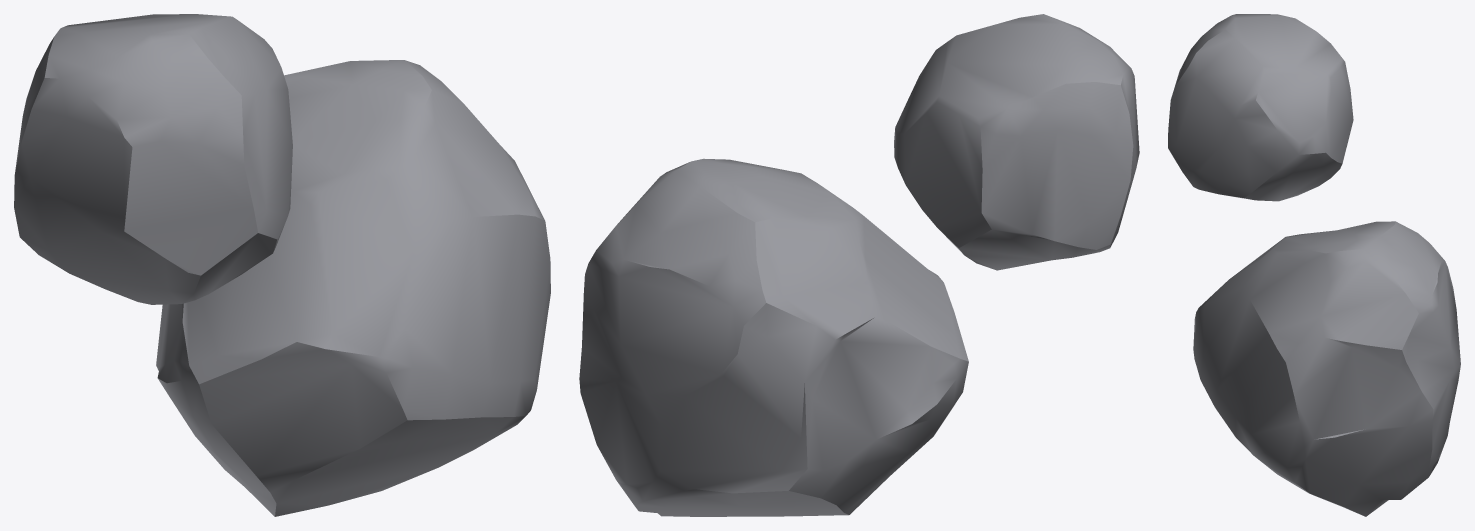
File: ui-rocks.glb
3 views of the same model, side by side, from view 1: azimuth 30°, elevation 25°; view 2: azimuth 150°, elevation 25°; view 3: azimuth 270°, elevation 25° (orthographic). The views are drawn at different scales.
Parts seen in each view (by area): view 1: UI_Rocks; view 2: UI_Rocks; view 3: UI_Rocks.
Part boxes in pixels (x1,y1,x2,y2): UI_Rocks: (14, 14, 550, 516); UI_Rocks: (579, 14, 1139, 516); UI_Rocks: (1168, 14, 1460, 516).
Size of the model in its own units: 0.4073 by 0.4131 by 0.2855.
1 material, 1 textured.
